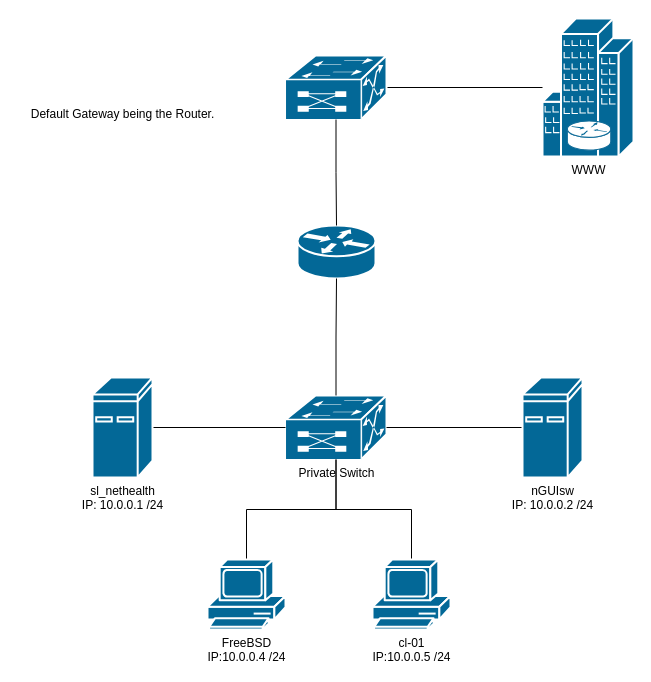
Some shapes in this 651 by 682 pixel diagram are drawn without their labels. The centre of each missing label's shape, as x and y in pixels:
"External Switch" goes at point 335,87.
"MikroTik Router Private IP: 10.0.0.10 /24 Extern : DHCP" goes at point 336,251.
